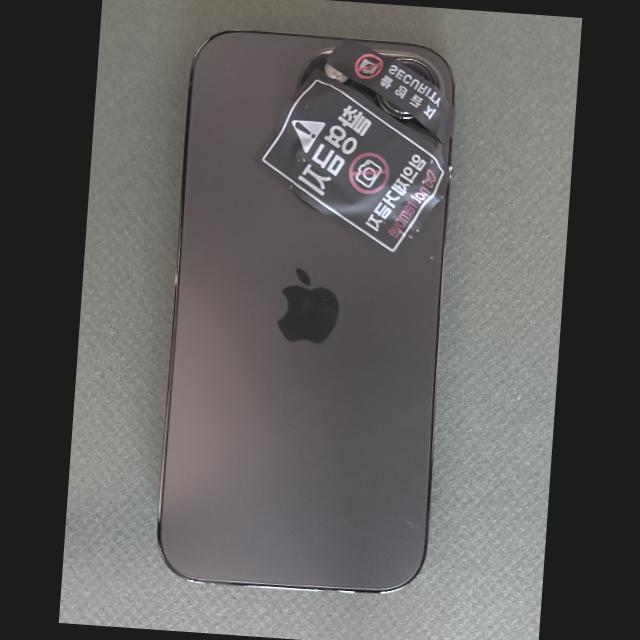lens: (395, 59, 435, 86)
phone: (155, 28, 455, 594)
sticker: (252, 67, 454, 264), (325, 37, 455, 144)
